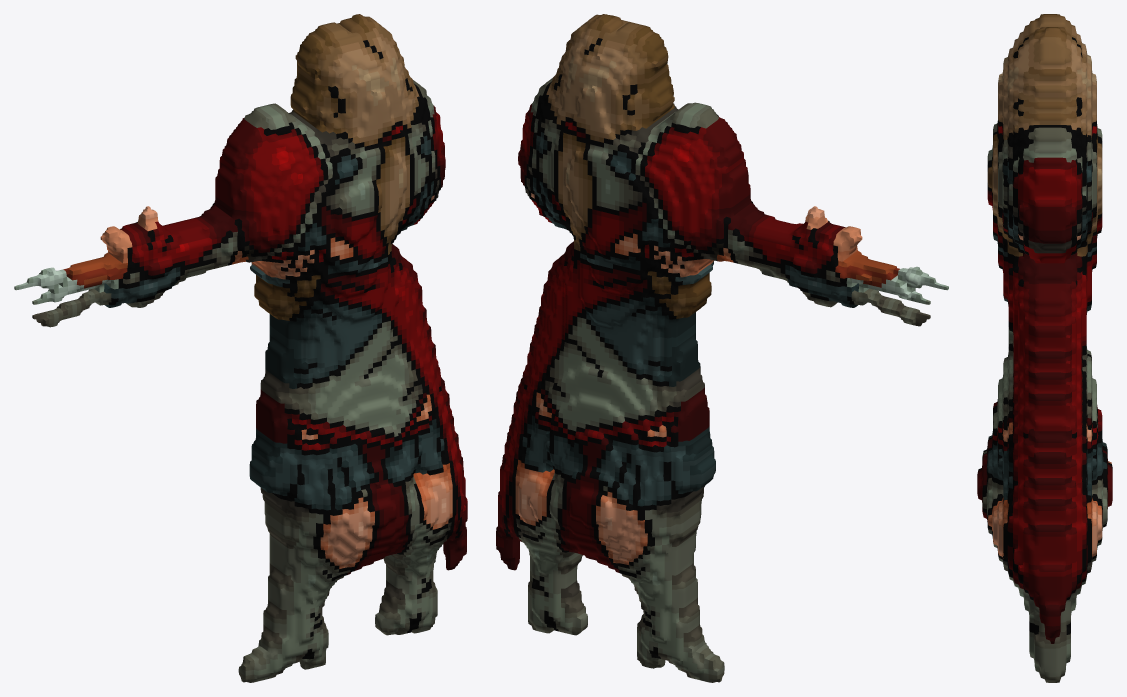
Rendered from Fight_106_2_02.obj.
3 views of the same model, side by side, from view 1: azimuth 30°, elevation 25°; view 2: azimuth 150°, elevation 25°; view 3: azimuth 270°, elevation 25° (orthographic).
Size of the model in its own units: 9.88 by 13.4 by 2.6.
Materials: 1 (1 with a texture image).
